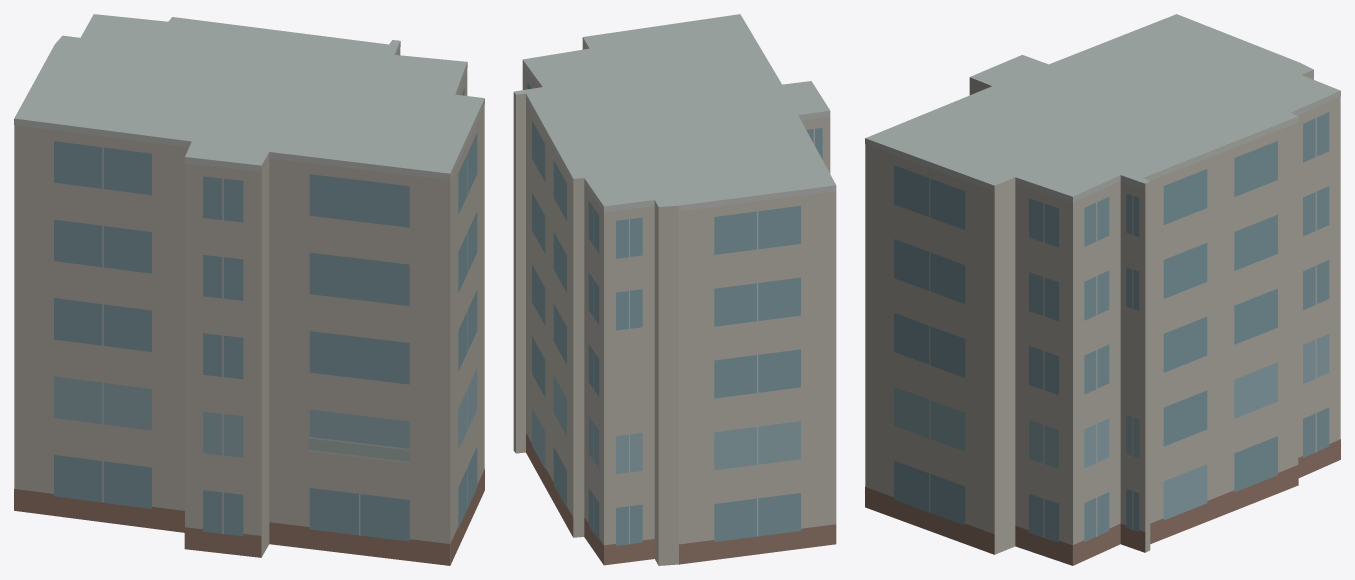
File: survey-upis-32793357.glb
The picture shows the model from 3 angles, left to right: view 1: azimuth 30°, elevation 25°; view 2: azimuth 150°, elevation 25°; view 3: azimuth 270°, elevation 25°; orthographic projection. The views are drawn at different scales.
Parts seen in each view (by area): view 1: survey-upis-32793357.tmp; view 2: survey-upis-32793357.tmp; view 3: survey-upis-32793357.tmp.
Part boxes in pixels (<box>): survey-upis-32793357.tmp: <box>14,14,484,565</box>; survey-upis-32793357.tmp: <box>513,14,836,565</box>; survey-upis-32793357.tmp: <box>865,14,1340,565</box>.
Bounding box in the file's own units: 15.86 × 14.92 × 17.43.
